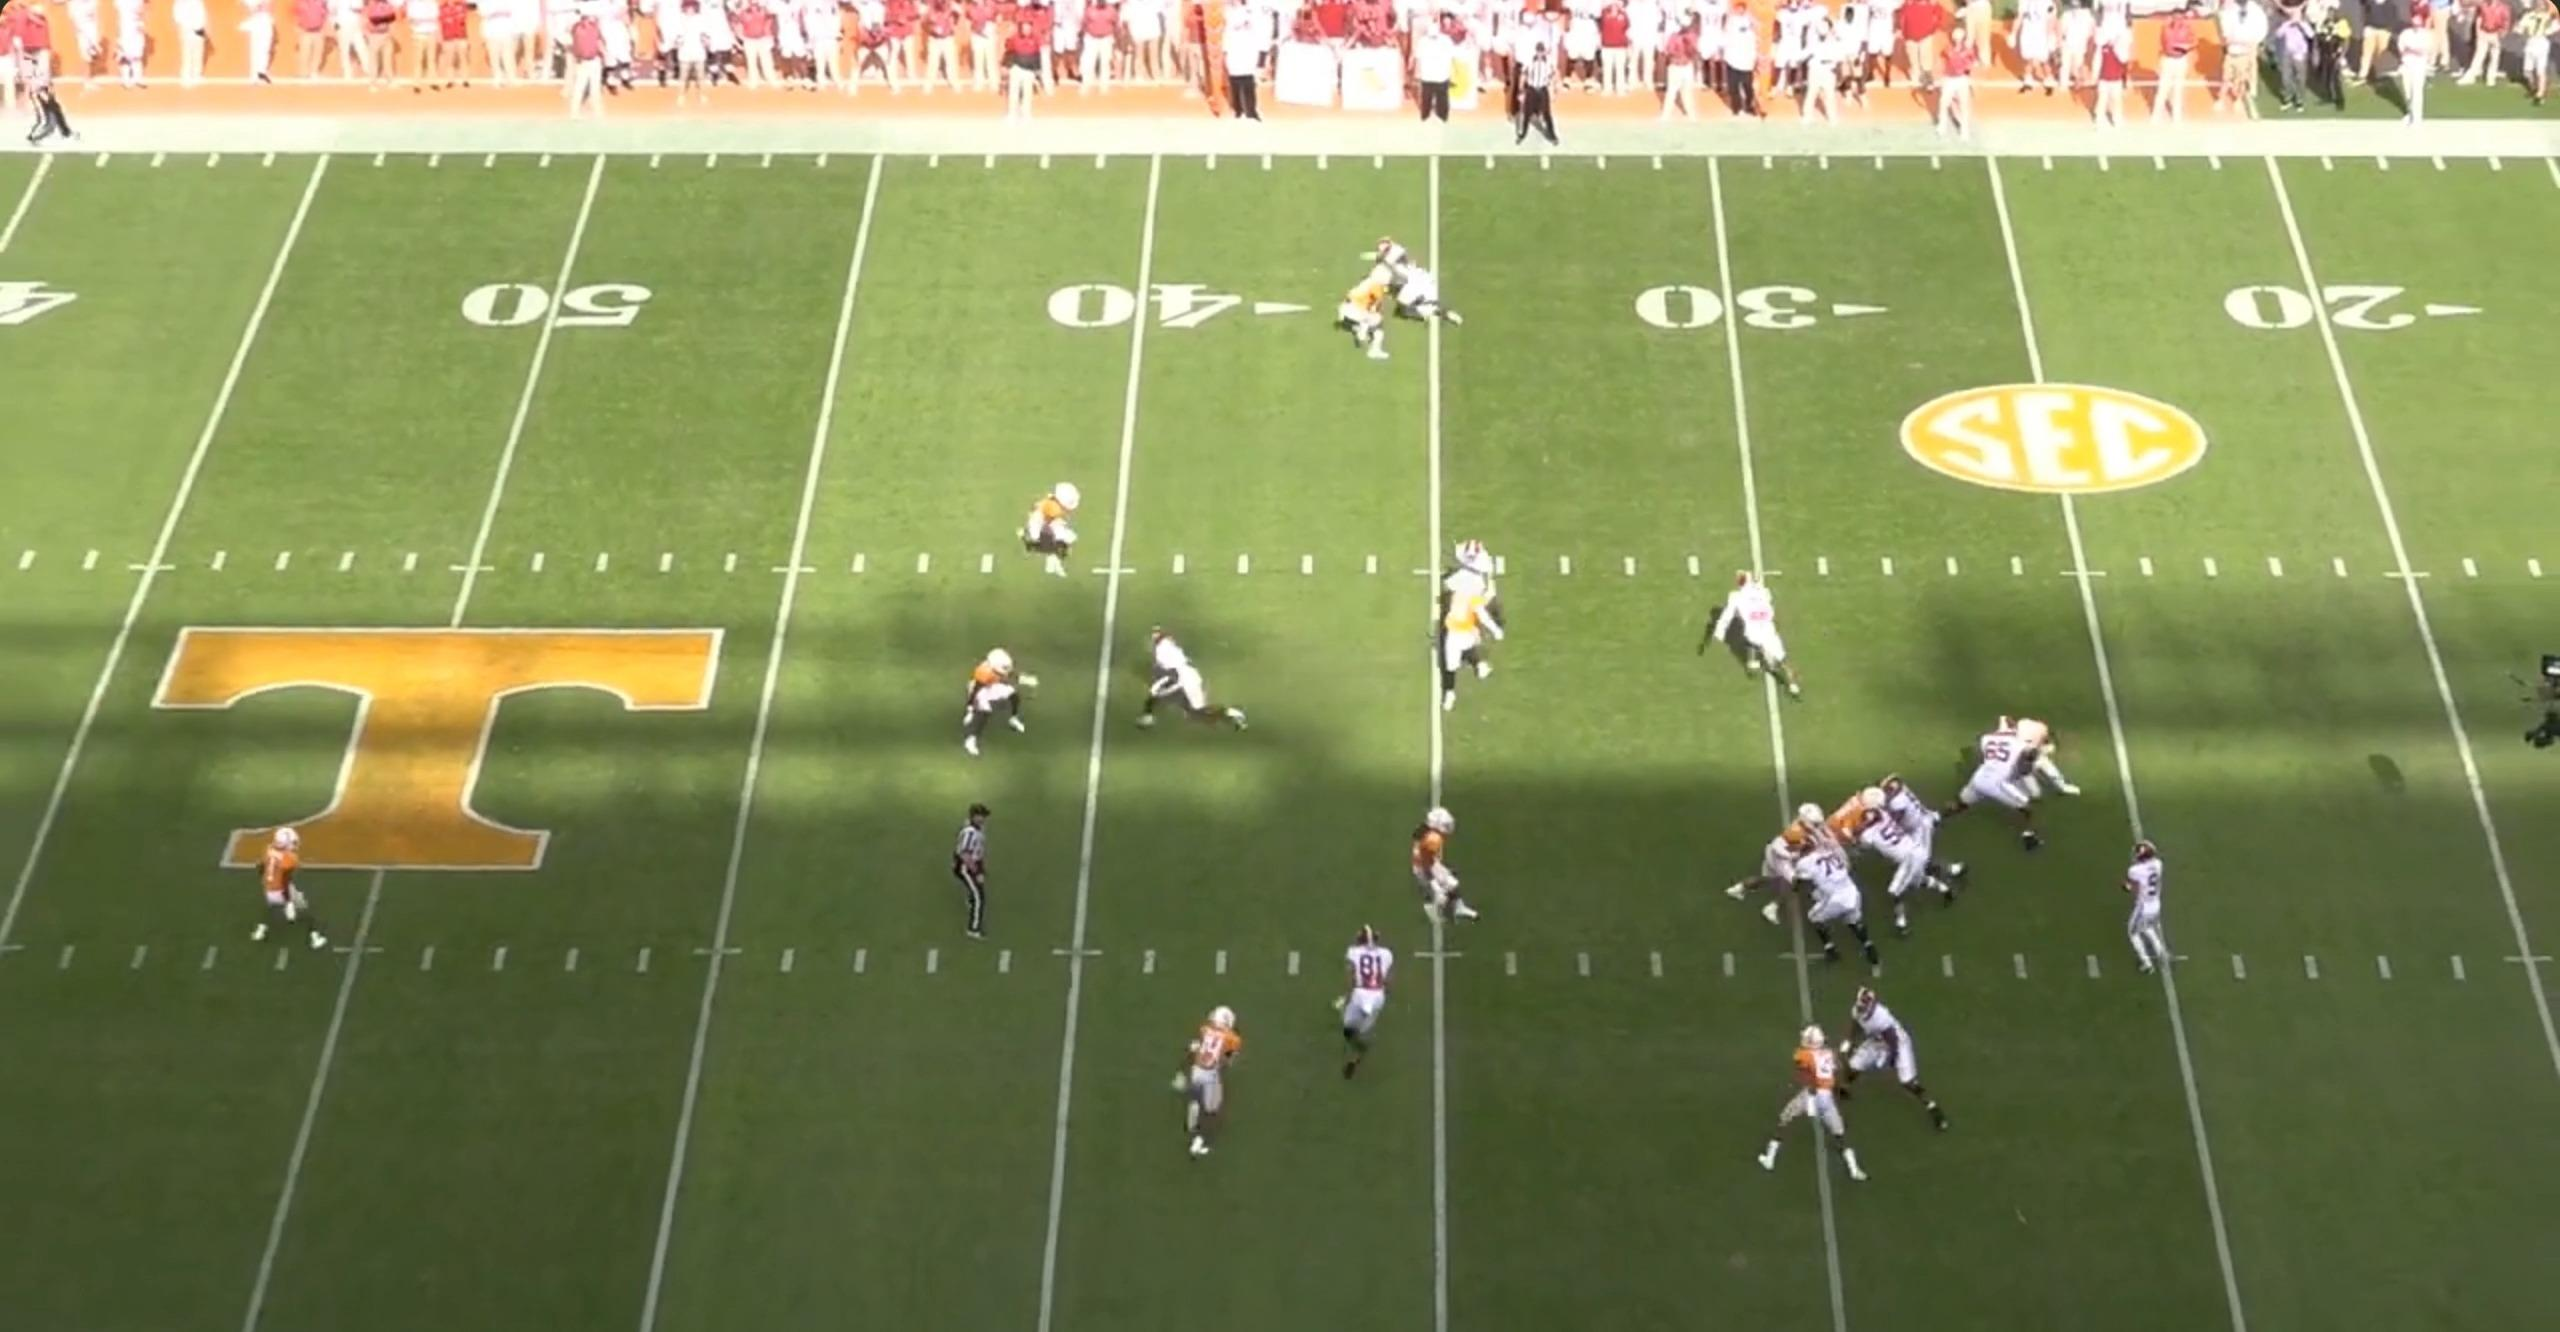player: (1764, 1014, 1868, 1181), (1840, 978, 1947, 1128), (1122, 622, 1243, 737), (1708, 575, 1815, 705), (1857, 807, 1962, 935), (1735, 798, 1840, 922), (1423, 562, 1504, 720), (1175, 1006, 1248, 1174), (1941, 722, 2035, 847), (1871, 774, 1967, 896), (251, 825, 336, 962), (1327, 917, 1393, 1080), (2109, 836, 2182, 977), (1797, 843, 1873, 969), (963, 648, 1040, 768), (1403, 803, 1476, 926), (1440, 541, 1514, 654), (1386, 245, 1474, 337), (1016, 476, 1091, 580), (1331, 252, 1397, 360), (2018, 719, 2080, 808), (1828, 779, 1889, 865)
ref: (944, 803, 1000, 948), (4, 40, 79, 148), (1496, 50, 1558, 157)
